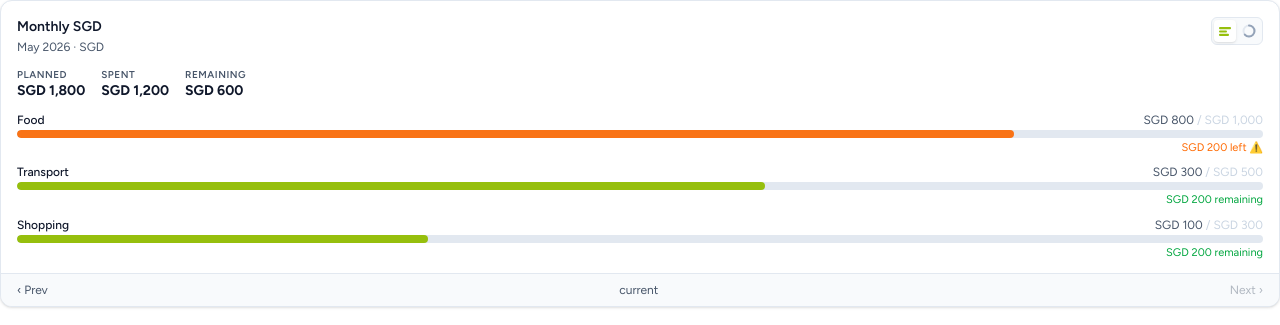
Scenario: PlannerCard › switches to radial view immediately on toggle without waiting for prop update
Click the button named "radial view" at x=1249, y=31, box [1238,20,1260,42]
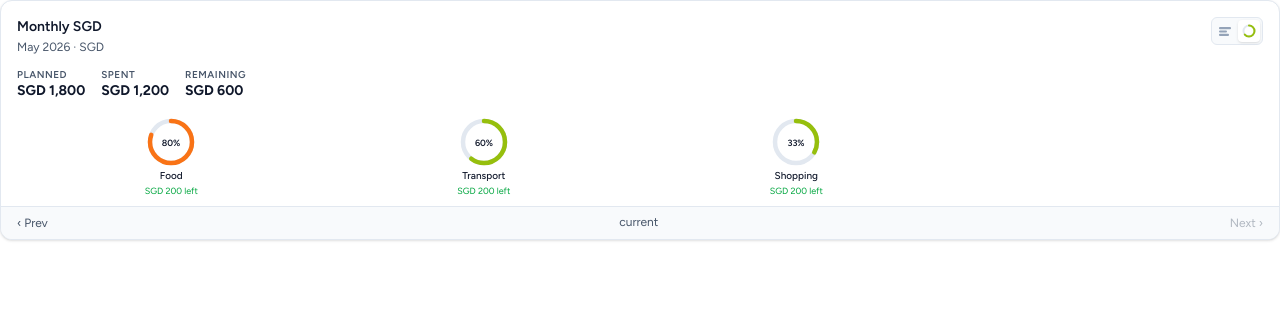
Expected: the icon "80%" is shown, [145,116,197,168]
